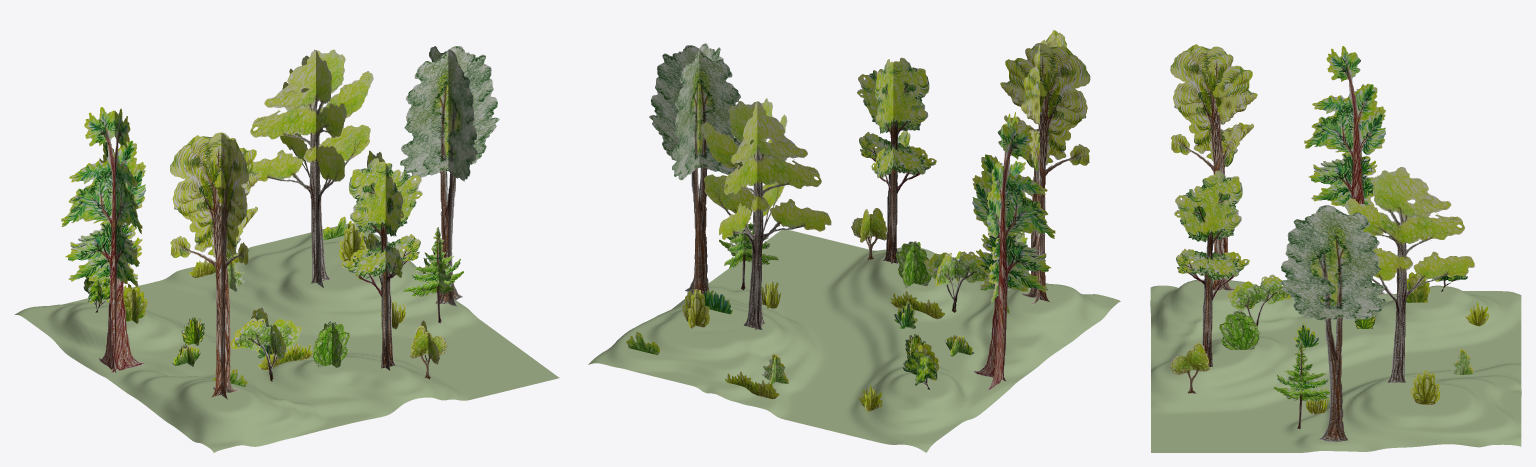
Rendered from Trees and bushes.fbx.
The picture shows the model from 3 angles, left to right: view 1: azimuth 30°, elevation 25°; view 2: azimuth 150°, elevation 25°; view 3: azimuth 270°, elevation 25°; orthographic projection. The views are drawn at different scales.
Parts seen in each view (by area): view 1: ground, Tree_4, Tree_2, Tree_5, Tree_1, Tree_3, Small_tree3, Small_tree1, Bush3, Small_tree2, Bush2, Bush (+2 smaller); view 2: ground, Tree_4, Tree_2, Tree_5, Tree_1, Tree_3, Small_tree3, Bush3, Small_tree1, Small_tree2, Small_tree, Bush (+2 smaller); view 3: ground, Tree_5, Tree_4, Tree_1, Tree_2, Tree_3, Small_tree1, Small_tree3, Bush3, Small_tree2, Bush, Bush2 (+2 smaller).
Boxes of the visible parts, left/top/right/bottom form: ground: left=14, top=223, right=559, bottom=452; Tree_4: left=250, top=49, right=373, bottom=287; Tree_2: left=61, top=107, right=145, bottom=372; Tree_5: left=400, top=46, right=499, bottom=306; Tree_1: left=170, top=132, right=261, bottom=399; Tree_3: left=341, top=150, right=422, bottom=370; Small_tree3: left=230, top=307, right=301, bottom=381; Small_tree1: left=403, top=227, right=463, bottom=323; Bush3: left=312, top=321, right=350, bottom=367; Small_tree2: left=410, top=320, right=447, bottom=379; Bush2: left=123, top=283, right=147, bottom=323; Bush: left=339, top=223, right=366, bottom=261; ground: left=588, top=229, right=1120, bottom=452; Tree_4: left=701, top=98, right=831, bottom=330; Tree_2: left=972, top=112, right=1055, bottom=390; Tree_5: left=649, top=43, right=740, bottom=294; Tree_1: left=1000, top=30, right=1090, bottom=304; Tree_3: left=857, top=57, right=936, bottom=263; Small_tree3: left=924, top=251, right=987, bottom=312; Bush3: left=895, top=241, right=931, bottom=288; Small_tree1: left=719, top=216, right=778, bottom=290; Small_tree2: left=851, top=208, right=886, bottom=261; Small_tree: left=902, top=348, right=937, bottom=389; Bush: left=682, top=289, right=709, bottom=328; ground: left=1150, top=279, right=1521, bottom=452; Tree_5: left=1279, top=205, right=1385, bottom=441; Tree_4: left=1345, top=167, right=1474, bottom=382; Tree_1: left=1170, top=44, right=1257, bottom=290; Tree_2: left=1304, top=46, right=1385, bottom=294; Tree_3: left=1174, top=170, right=1249, bottom=366; Small_tree1: left=1273, top=340, right=1329, bottom=428; Small_tree3: left=1227, top=274, right=1291, bottom=326; Bush3: left=1219, top=311, right=1260, bottom=349; Small_tree2: left=1169, top=342, right=1209, bottom=393; Bush: left=1410, top=370, right=1440, bottom=404; Bush2: left=1406, top=272, right=1429, bottom=302.
Size of the model in its own units: 40.56 by 26.17 by 31.67.
Materials: 2 (1 with a texture image).
